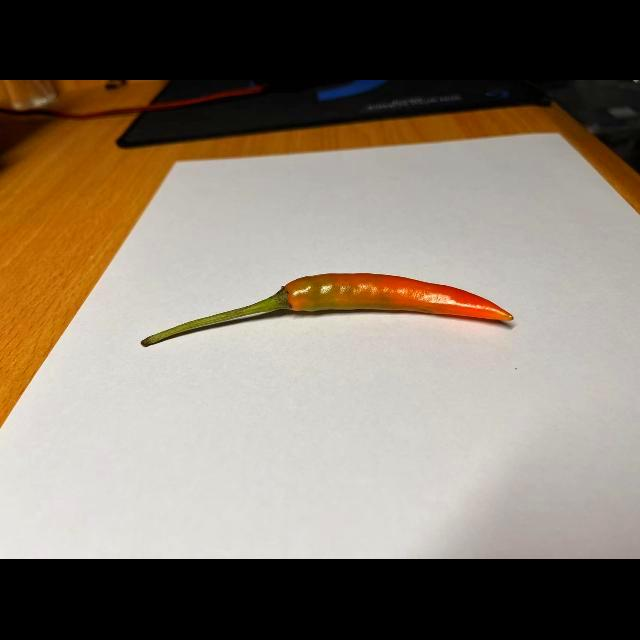chili_pepper: (135, 270, 520, 354)
